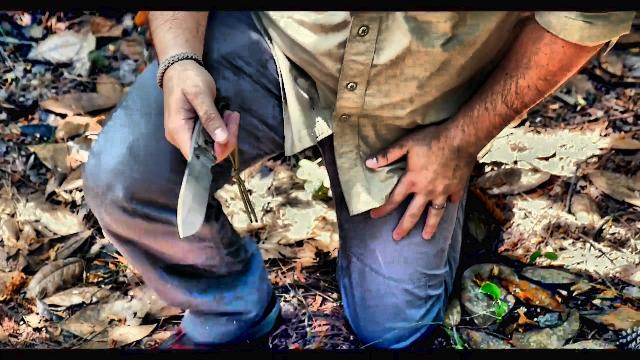knife: (162, 109, 245, 239)
